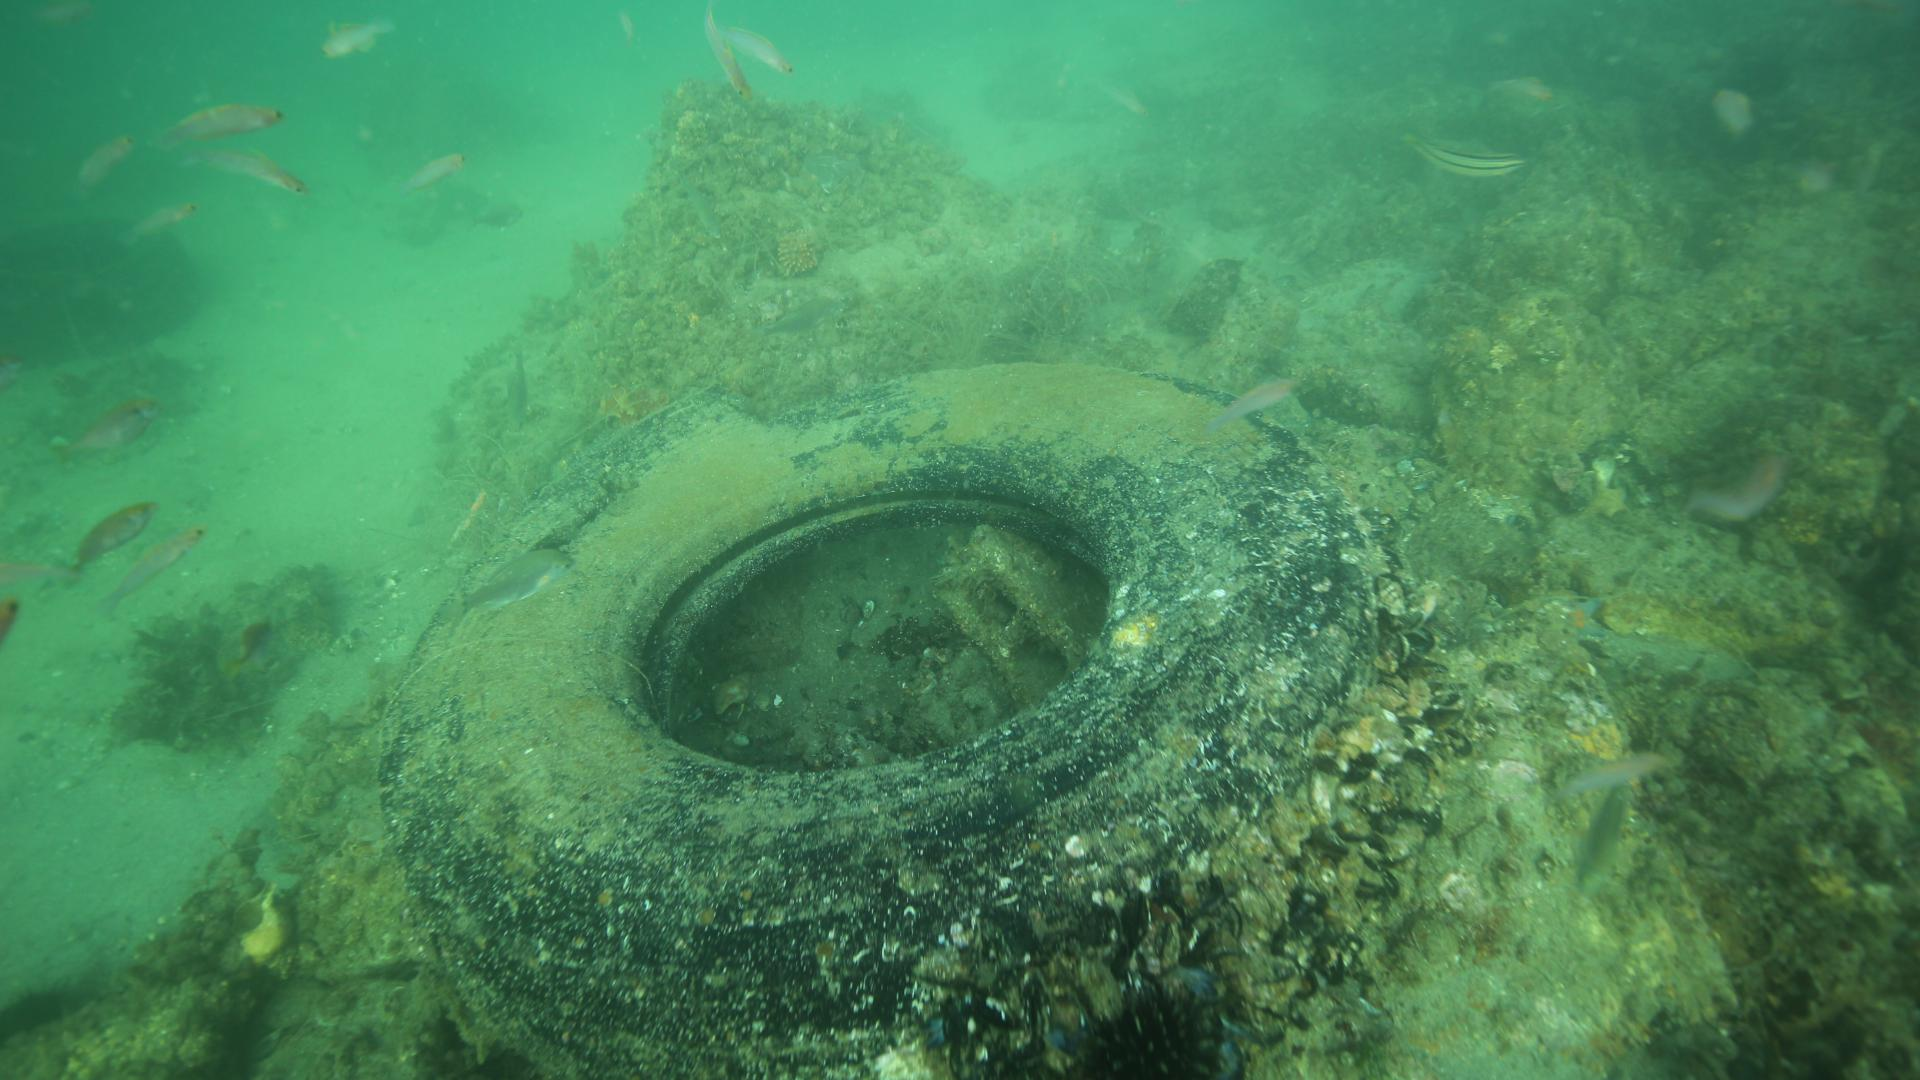tire: (381, 356, 1377, 957)
